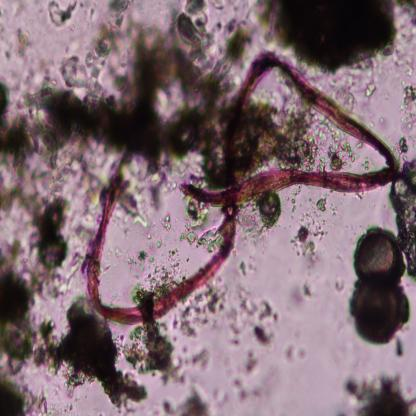Background material: (31, 32, 228, 182), (32, 302, 148, 408), (252, 0, 397, 77), (59, 1, 131, 92), (236, 99, 312, 171), (22, 184, 76, 278), (201, 5, 254, 96), (0, 78, 37, 208), (0, 242, 39, 365), (130, 282, 178, 378), (221, 284, 279, 346), (335, 371, 416, 415), (391, 157, 416, 281), (127, 155, 185, 208), (130, 209, 175, 273), (216, 348, 263, 408), (176, 279, 224, 337), (293, 193, 331, 264), (174, 2, 216, 66), (177, 197, 225, 251), (311, 124, 357, 172), (0, 371, 49, 415), (118, 182, 150, 228), (160, 388, 208, 415), (150, 251, 178, 293), (238, 206, 266, 244), (398, 78, 416, 135), (9, 26, 33, 66), (332, 73, 357, 111), (46, 1, 76, 30), (395, 0, 416, 41), (282, 338, 309, 365), (184, 353, 212, 372), (295, 280, 316, 300), (391, 334, 406, 362), (391, 139, 409, 162), (332, 278, 347, 294), (364, 83, 375, 98), (239, 262, 248, 277)
Cotton: (85, 49, 409, 321)
Diatom: (350, 284, 410, 344), (352, 226, 407, 284), (258, 193, 282, 222)
